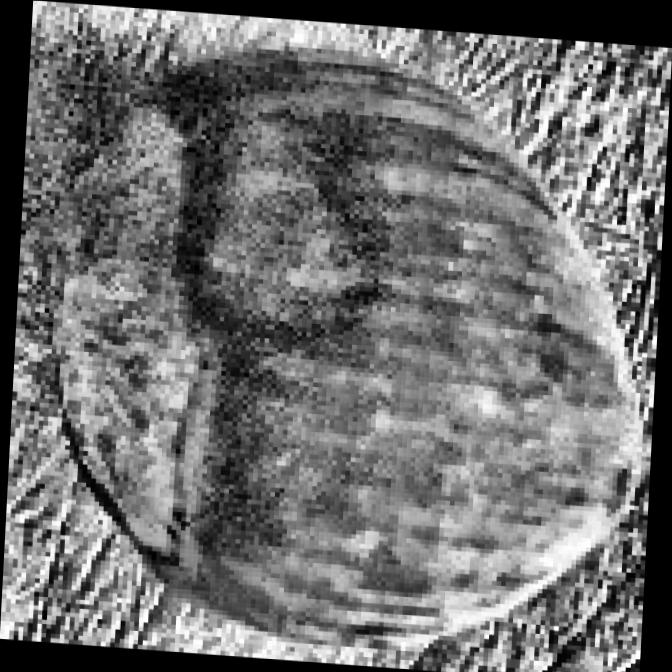qualityHazelnut: (3, 0, 672, 672)
